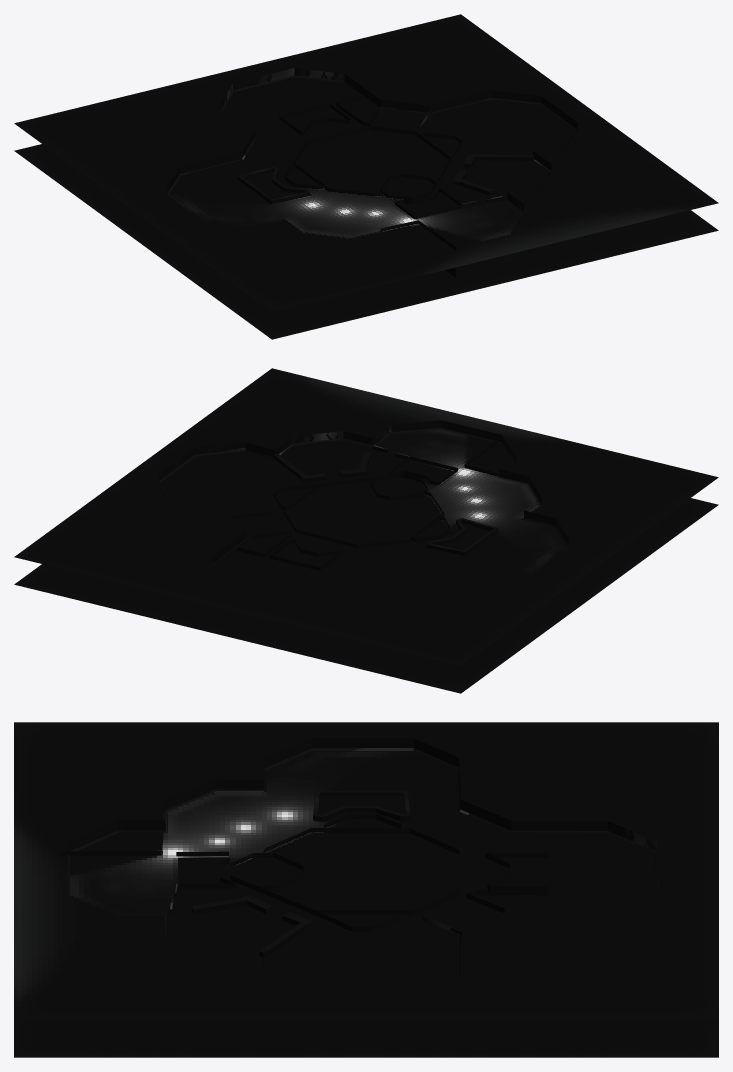
Rendered from office.glb.
3 views of the same model, one above another, from view 1: azimuth 30°, elevation 25°; view 2: azimuth 150°, elevation 25°; view 3: azimuth 270°, elevation 25° (orthographic). The views are drawn at different scales.
Visible parts, largest first — view 1: Plane; view 2: Plane; view 3: Plane.
Boxes of the visible parts, x1,y1,x2,y2 form: Plane: (14,14,718,339); Plane: (14,368,718,693); Plane: (14,722,718,1057).
Bounding box in the file's own units: 101 × 7.84 × 101.
1 material, 1 textured.
